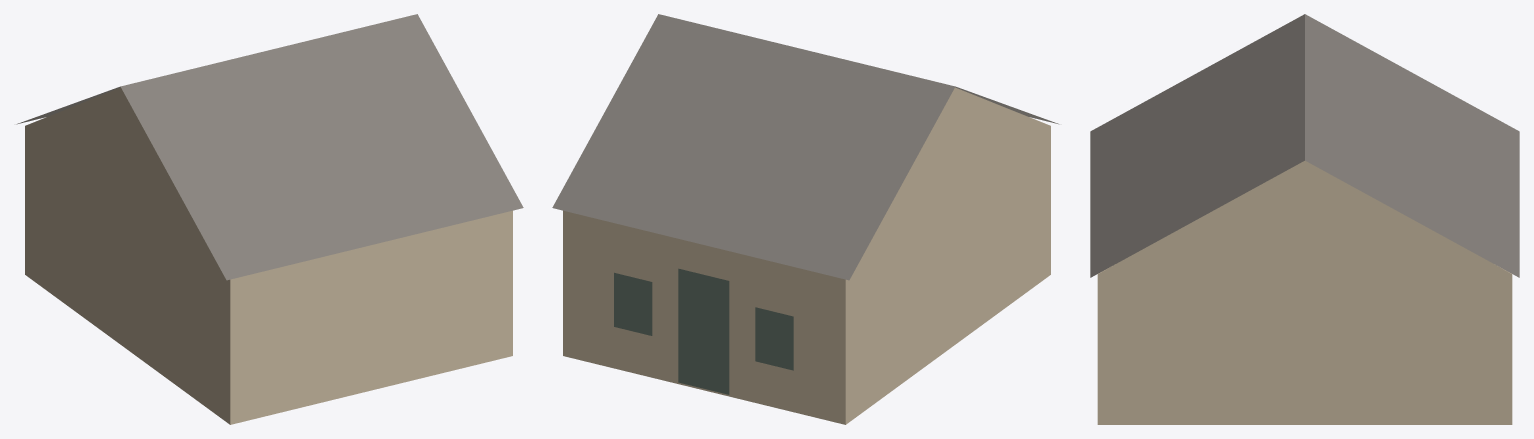
The model's file is recon_1835_south_a1_046__recommended_1835.glb.
The picture shows the model from 3 angles, left to right: view 1: azimuth 30°, elevation 25°; view 2: azimuth 150°, elevation 25°; view 3: azimuth 270°, elevation 25°; orthographic projection.
Visible parts, largest first — view 1: recon_1835_south_a1_046__recommended_1835; view 2: recon_1835_south_a1_046__recommended_1835; view 3: recon_1835_south_a1_046__recommended_1835.
Boxes of the visible parts, x1,y1,x2,y2 form: recon_1835_south_a1_046__recommended_1835: (16, 14, 523, 424); recon_1835_south_a1_046__recommended_1835: (552, 14, 1059, 424); recon_1835_south_a1_046__recommended_1835: (1090, 14, 1519, 424).
Bounding box in the file's own units: 5.74 × 4.9 × 7.11.
